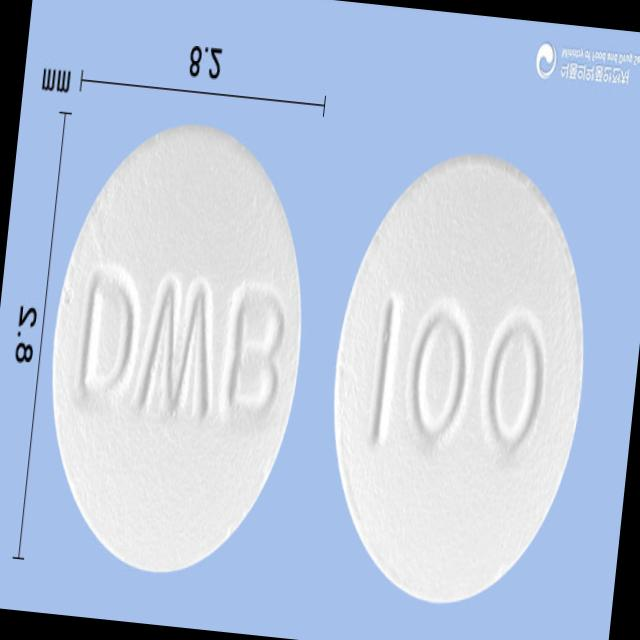Lefloxa: (311, 142, 607, 620), (31, 110, 326, 588)
